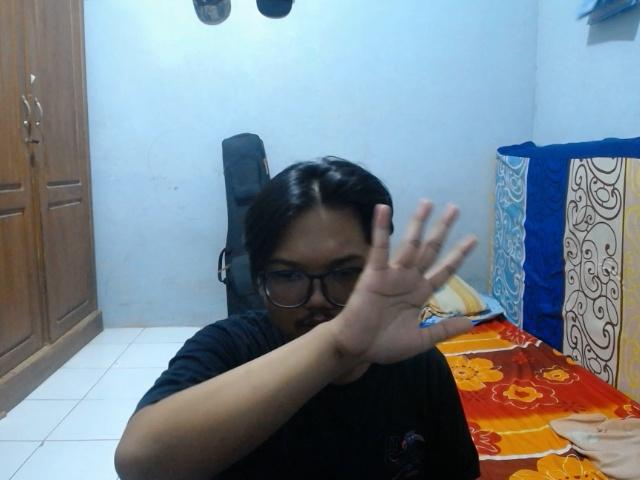Release: (329, 193, 484, 369)
